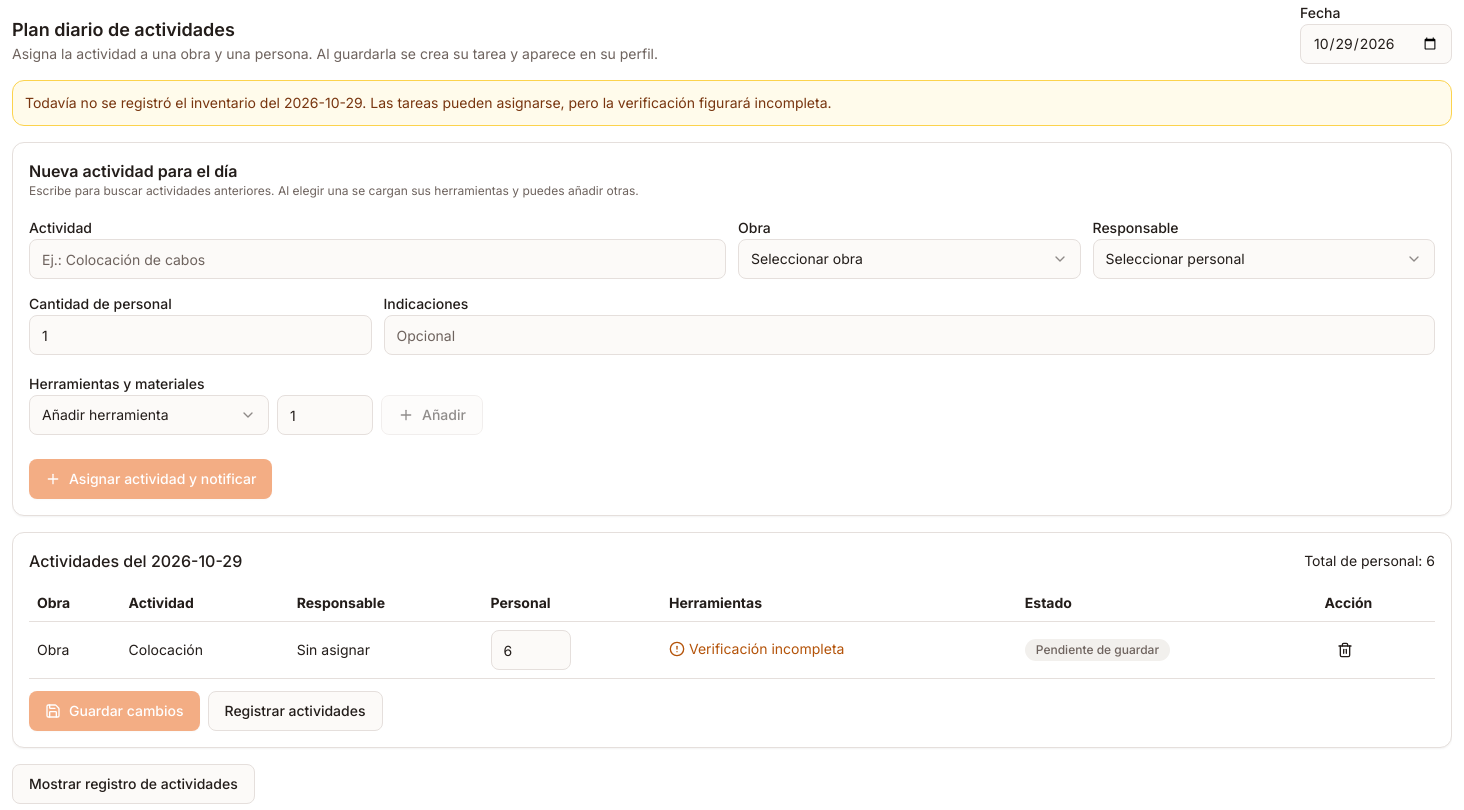
Test: does not enable saving an empty draft before the existing day loads
Step 1. Replace the text in the number field named "Personal para Colocación" with "7" → (530, 650), box [490,630,570,670]
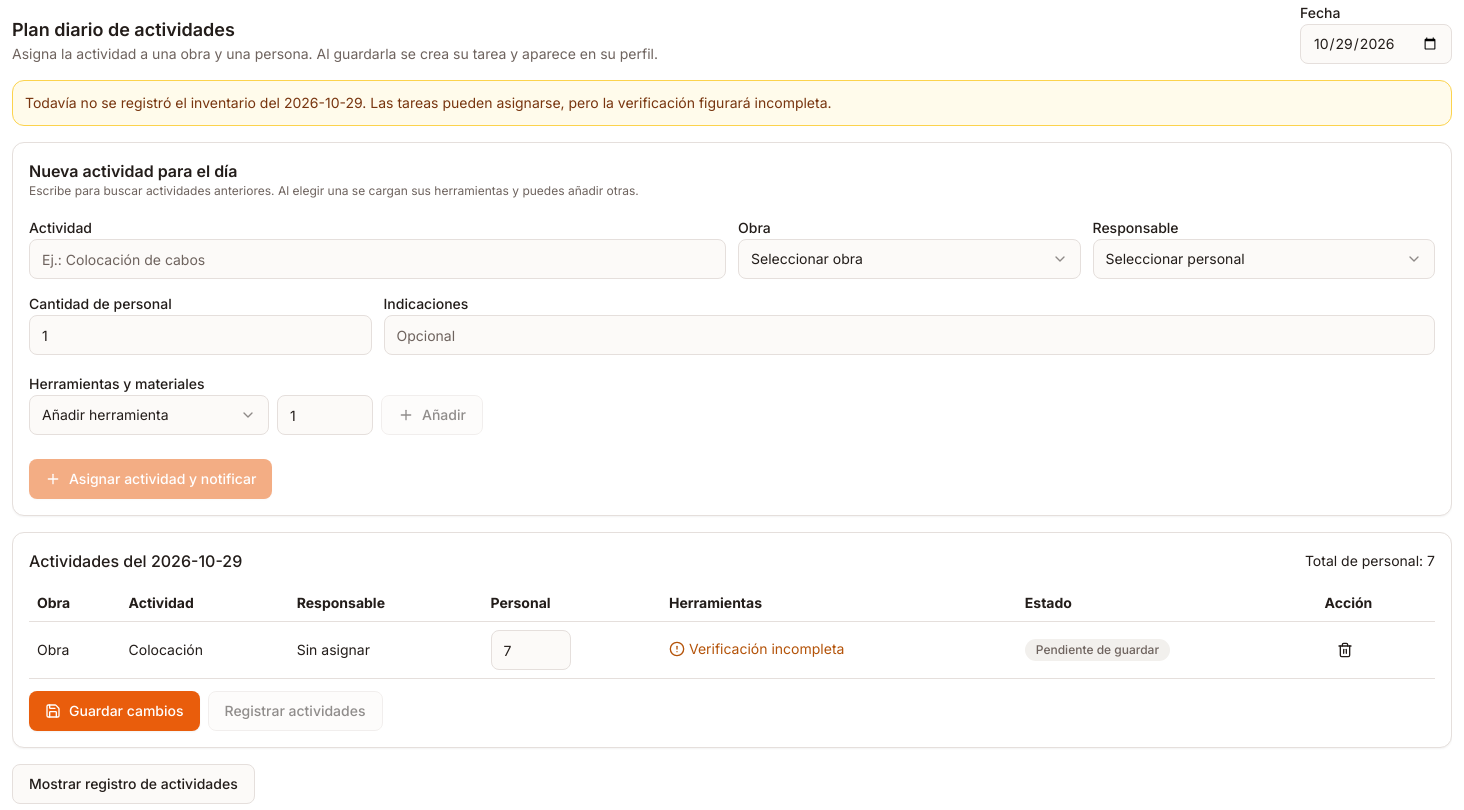
Expected: the button "Guardar cambios" is enabled, [29,691,200,731]
